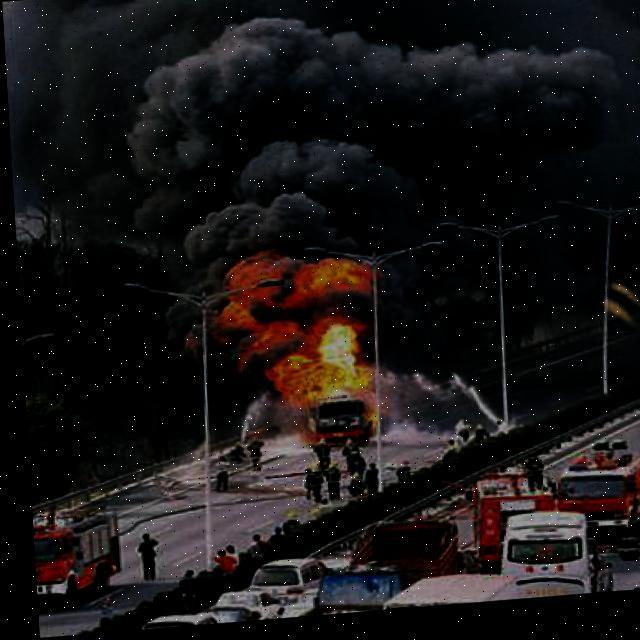Fire: (208, 247, 376, 461)
